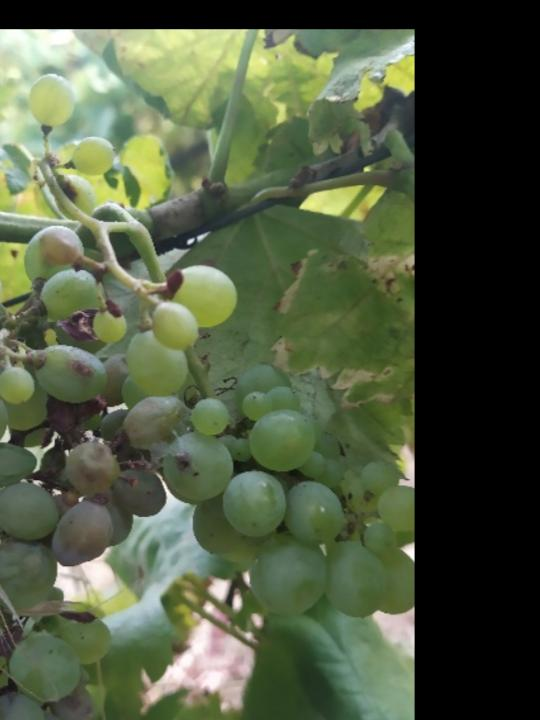grape: (0, 220, 241, 720)
